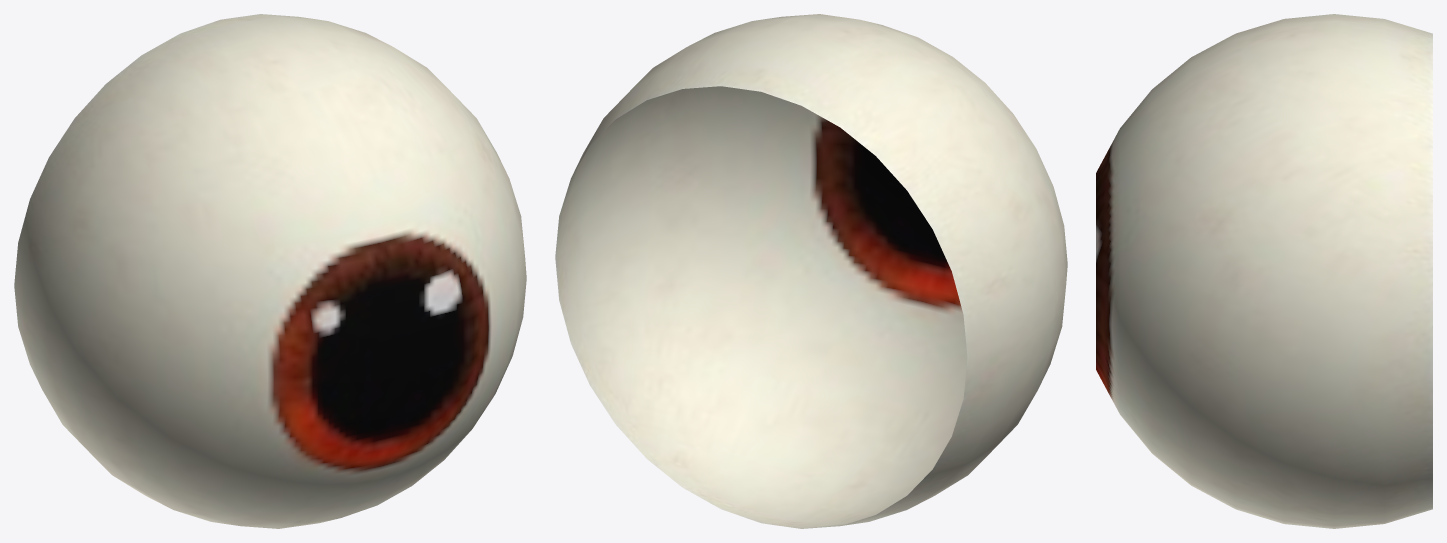
The model's file is yingtao_eye_left.fbx.
The picture shows the model from 3 angles, left to right: view 1: azimuth 30°, elevation 25°; view 2: azimuth 150°, elevation 25°; view 3: azimuth 270°, elevation 25°; orthographic projection.
Visible parts, largest first — view 1: EYE_LEFT; view 2: EYE_LEFT; view 3: EYE_LEFT.
Boxes of the visible parts, x1,y1,x2,y2 form: EYE_LEFT: (14, 14, 526, 528); EYE_LEFT: (555, 14, 1067, 528); EYE_LEFT: (1096, 14, 1432, 528).
Bounding box in the file's own units: 0.0742 × 0.0742 × 0.0485.
